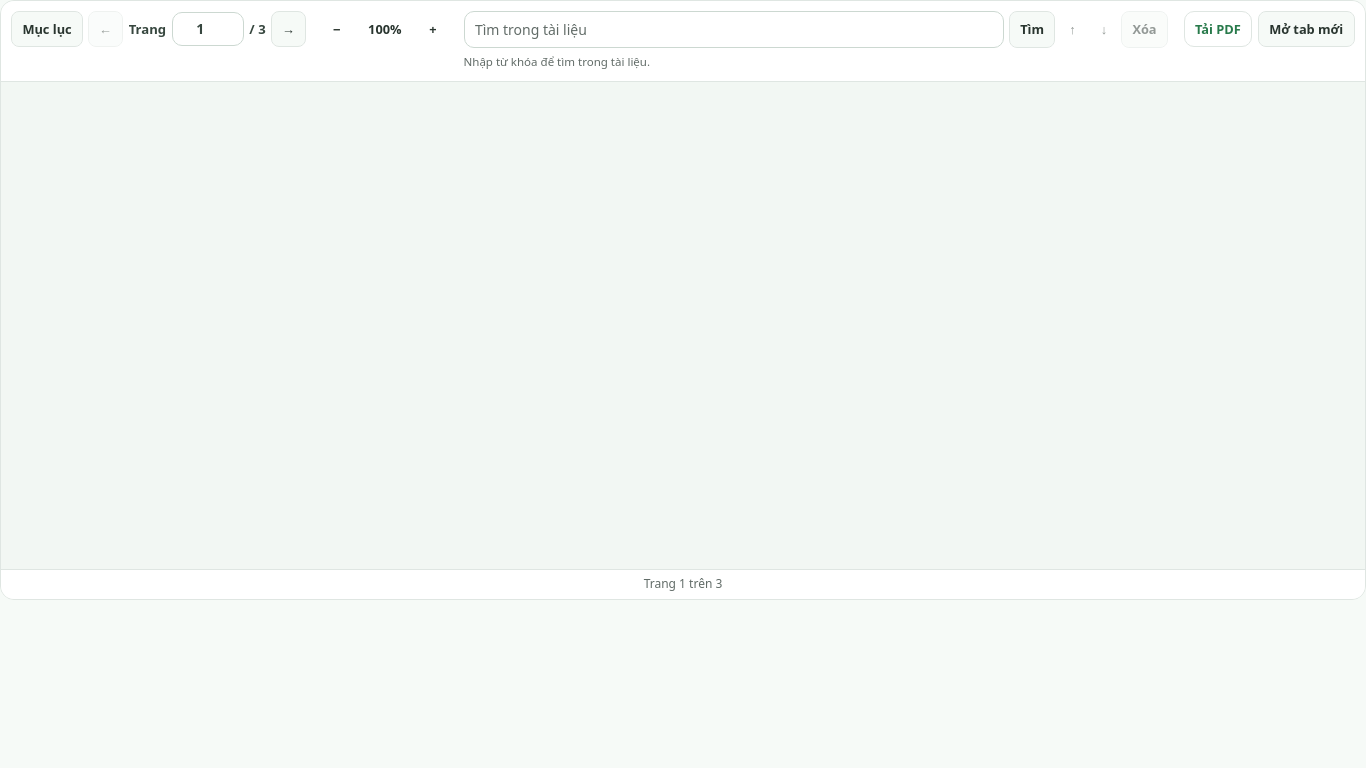
Test case: LibraryPdfReader › delegates selectable-text find and reports the match count
The width and height of the screenshot is (1366, 768).
Check: the text "Trang 1 trên 3" is shown, box [1, 569, 1365, 599]
Type "pháp danh" into the search field labelled "Tìm trong tài liệu" at (734, 30), box [464, 11, 1004, 48]
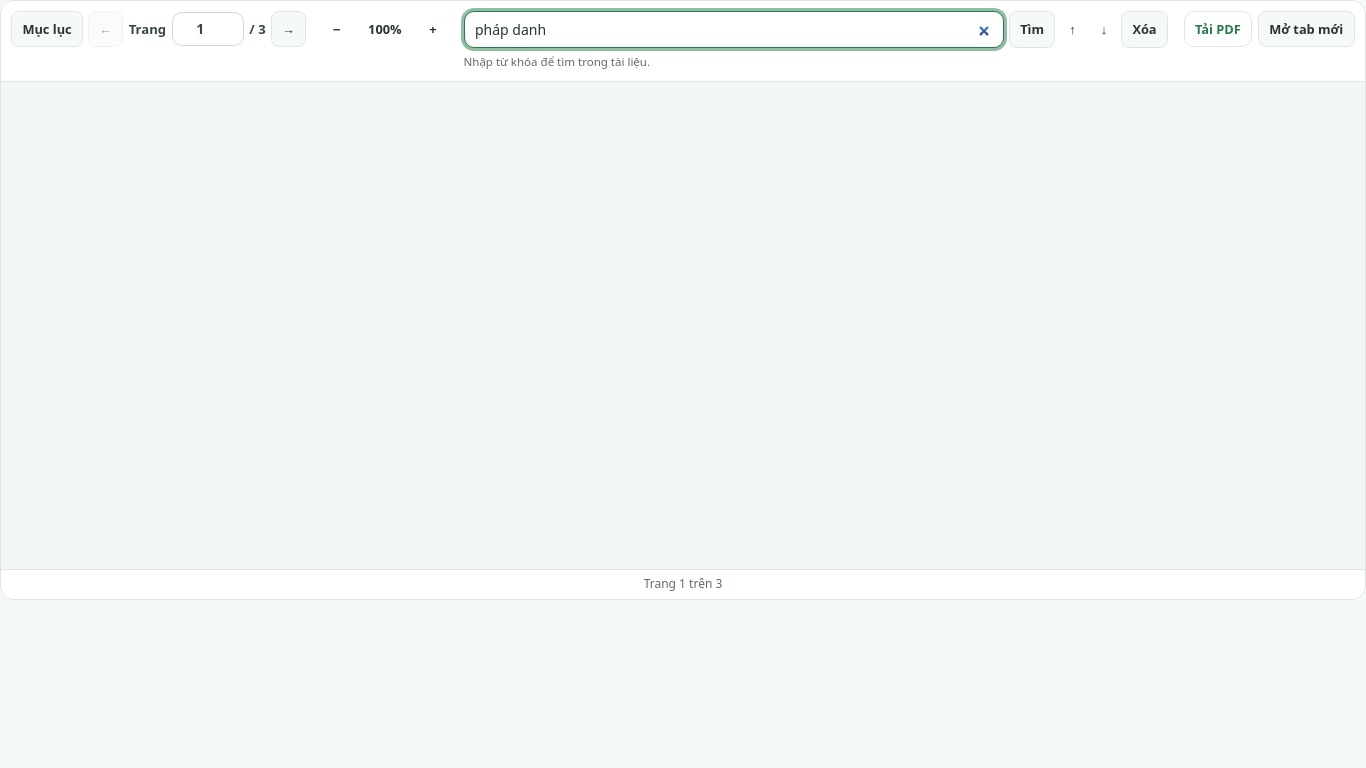
Click the button "Tìm" at (1032, 30), box [1009, 11, 1055, 48]
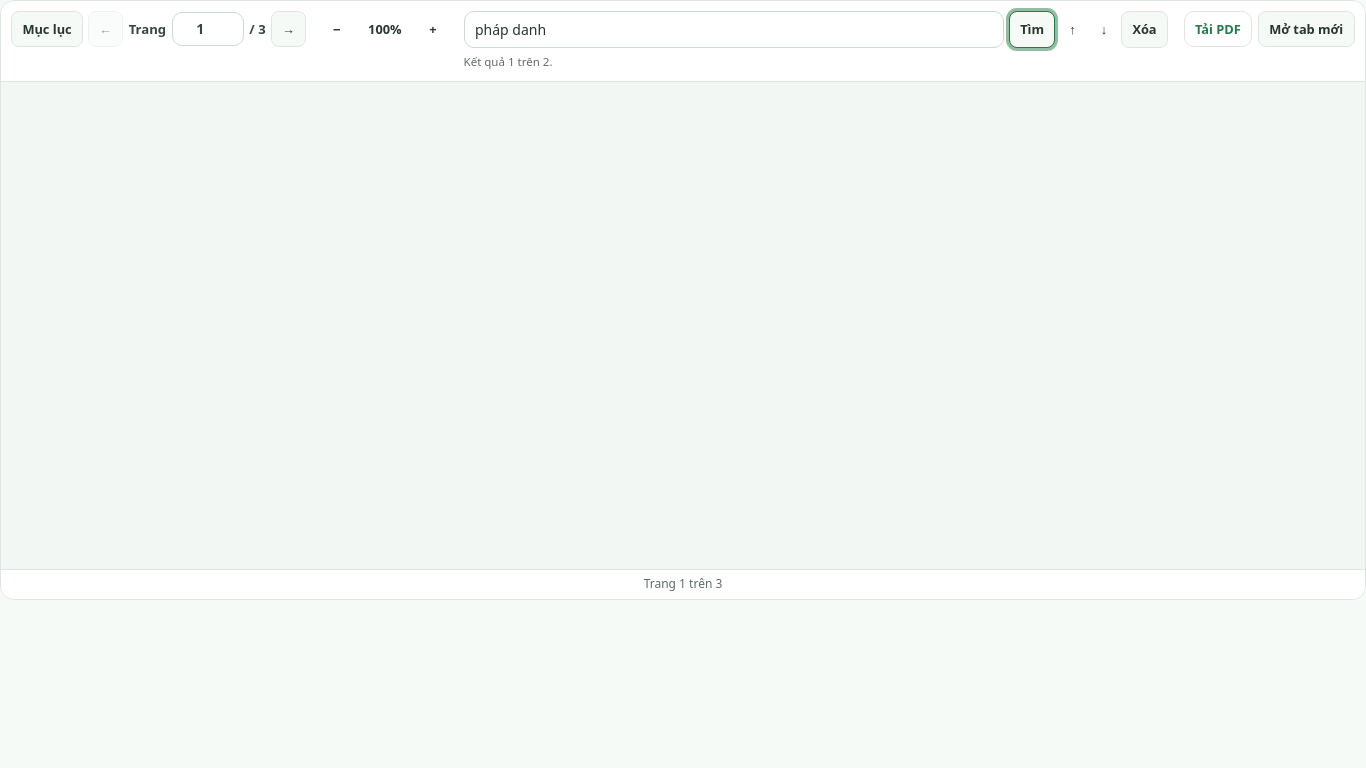
Check: the text "Kết quả 1 trên 2." is shown, box [464, 54, 552, 69]
